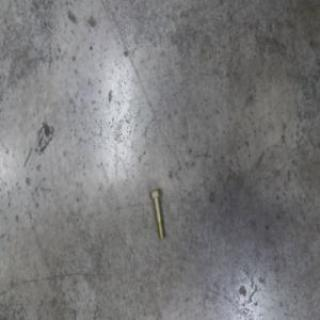Bolttrack_idkeyframe: (149, 184, 166, 238)
